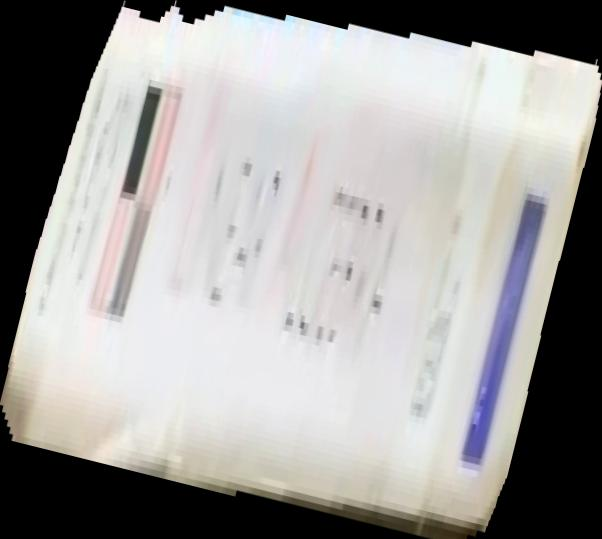flat: (1, 1, 602, 539)
